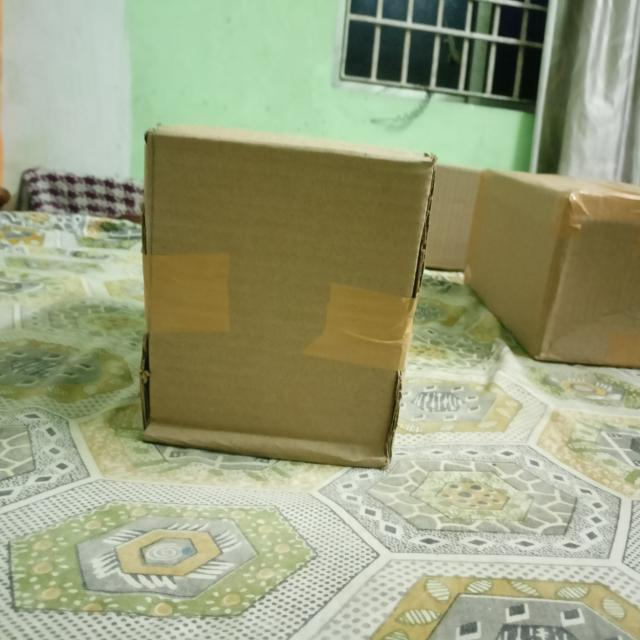box: (144, 137, 430, 470)
